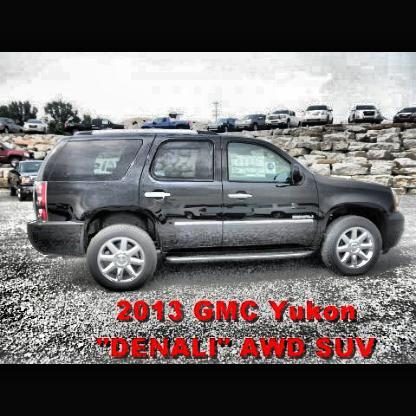GMC Yukon Hybrid SUV 2012: (30, 129, 407, 294)
